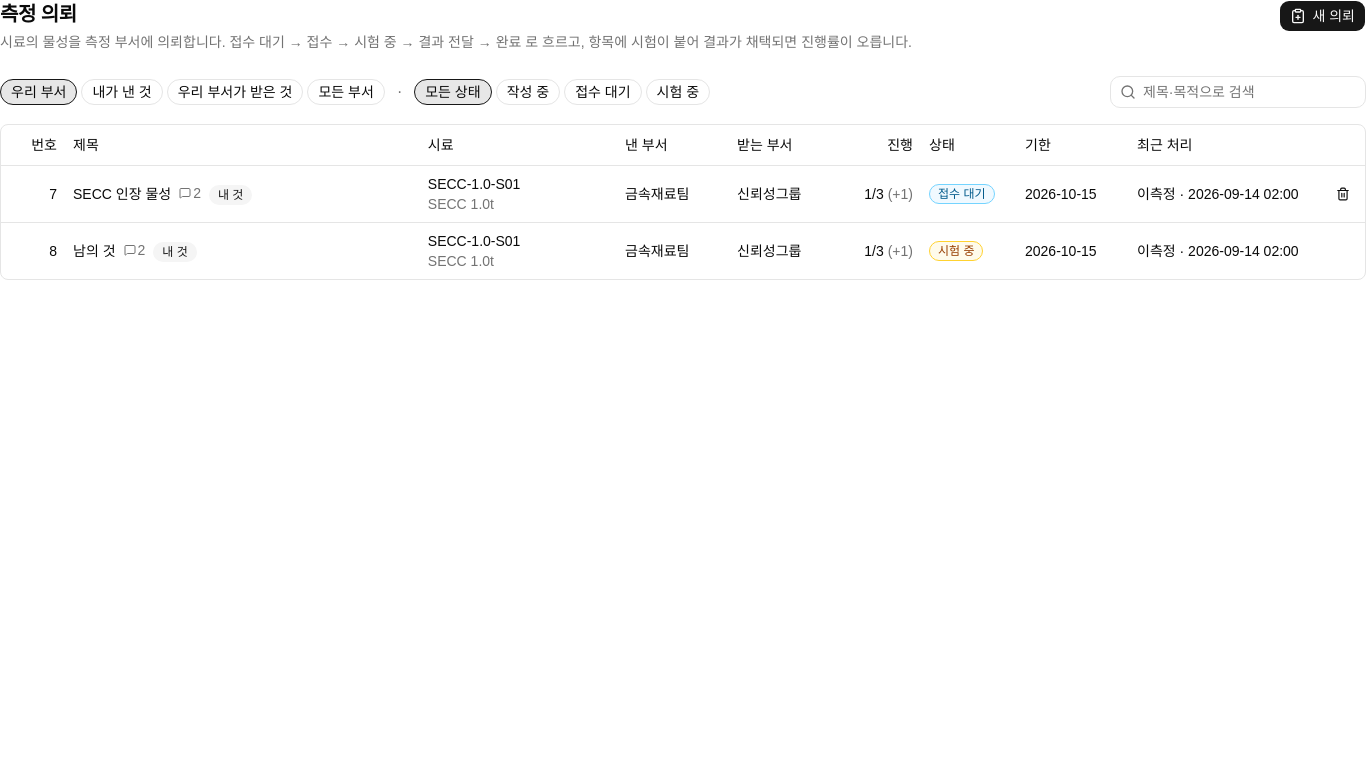
Test: 측정 의뢰 게시판 › 지울 수 있는 건에만 삭제 단추가 서고, 묻고 나서 지운다
Click the button named "#7 삭제". click: (1343, 194)
box: [1329,180,1357,208]
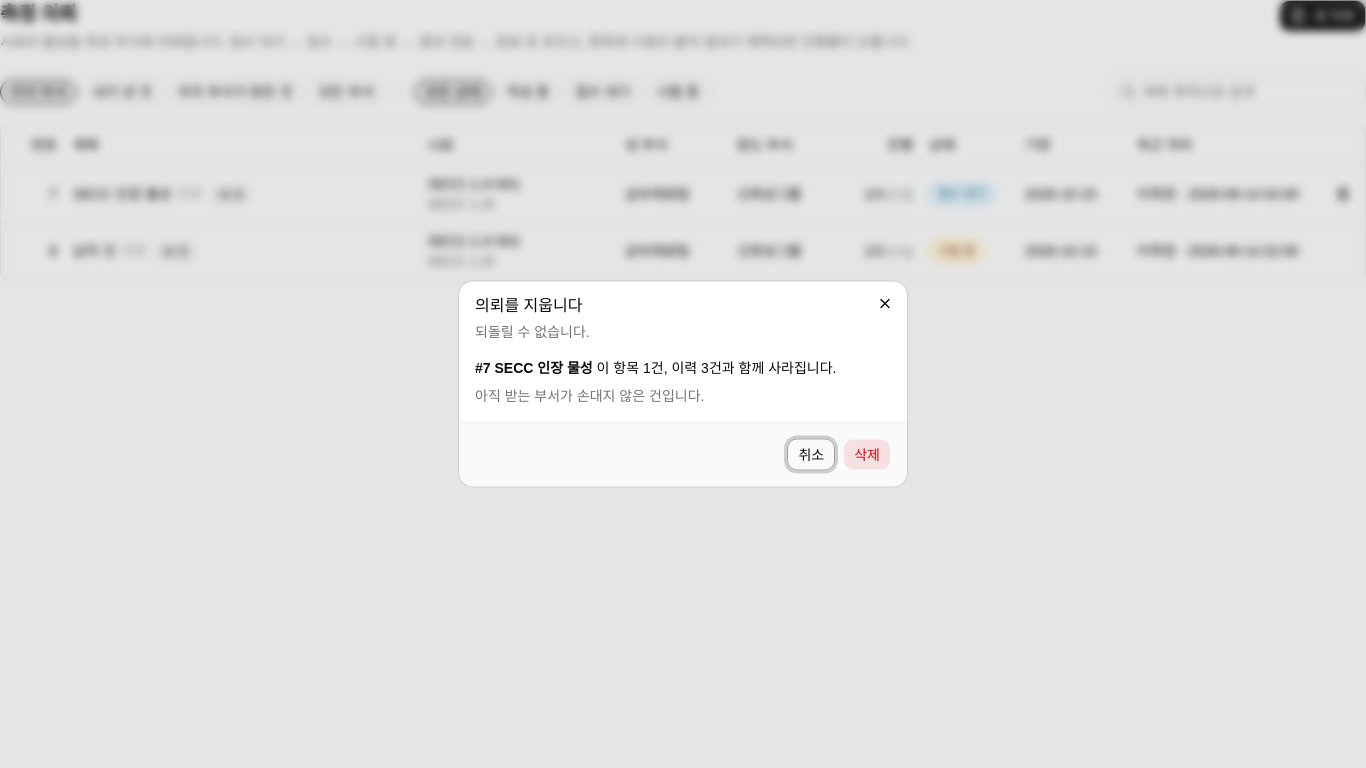
Result: the heading "의뢰를 지웁니다" is shown at [475,296,582,314]
Result: the text "아직 받는 부서가 손대지 않은 건입니다." is shown at [475,388,704,404]
Click the button "삭제". click: (867, 454)
box: [843,438,891,470]
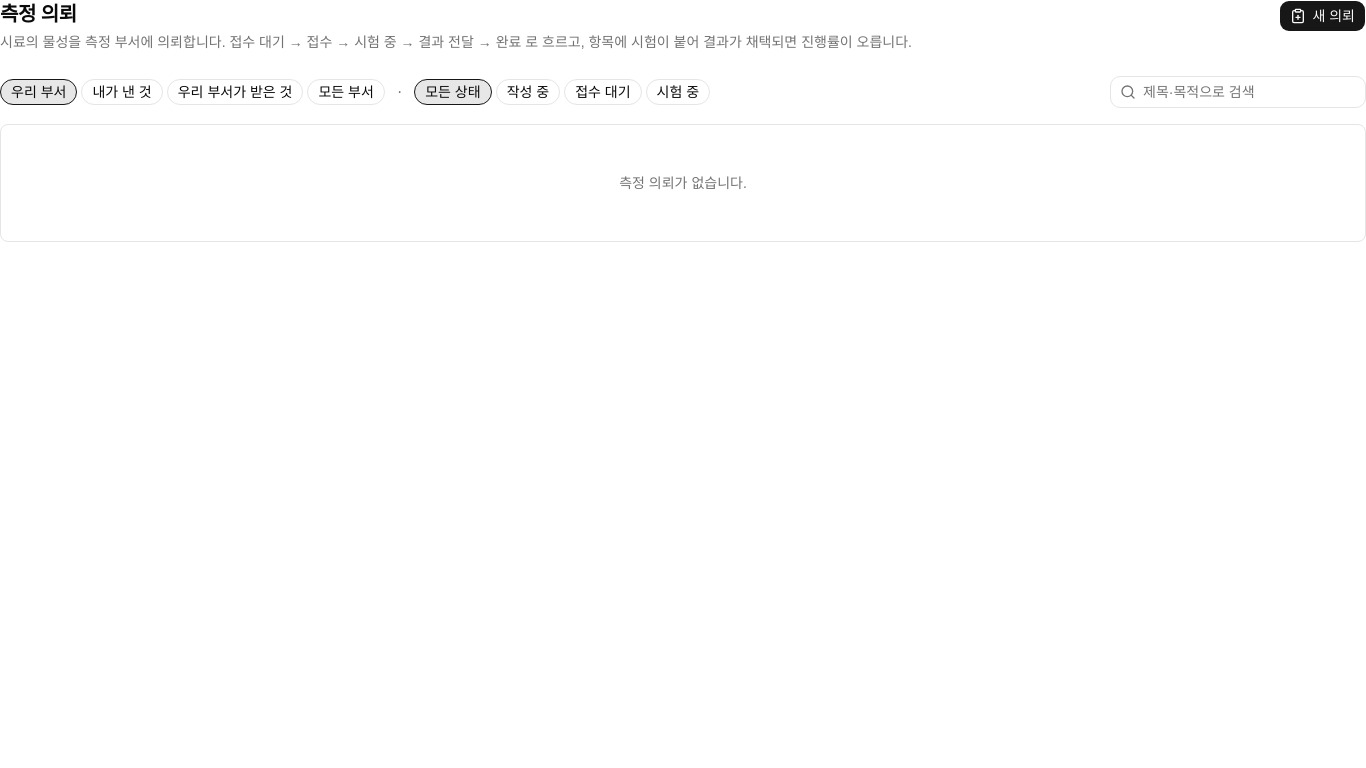
Result: the text "측정 의뢰가 없습니다." is shown at [0,124,1365,242]
